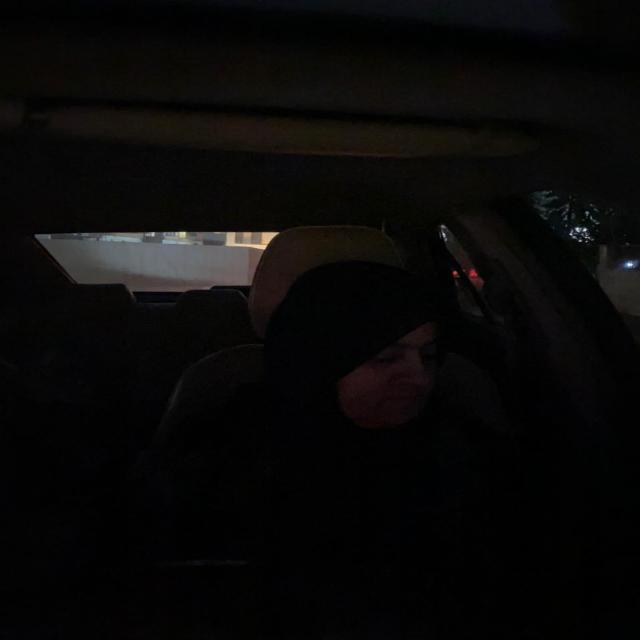drowsy: (271, 257, 458, 435)
